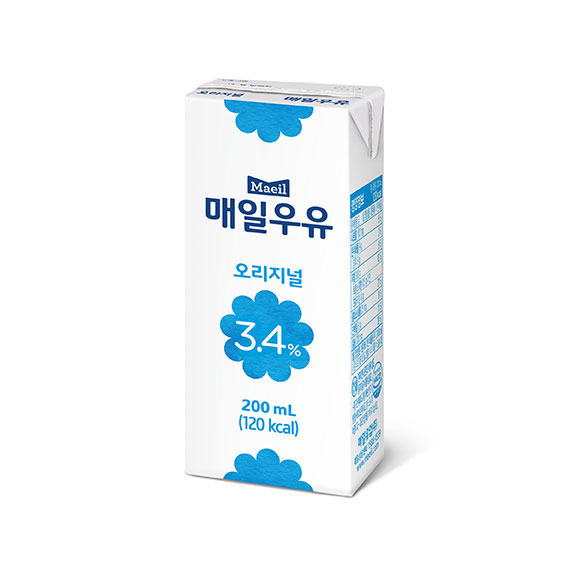milk: (185, 77, 384, 497)
